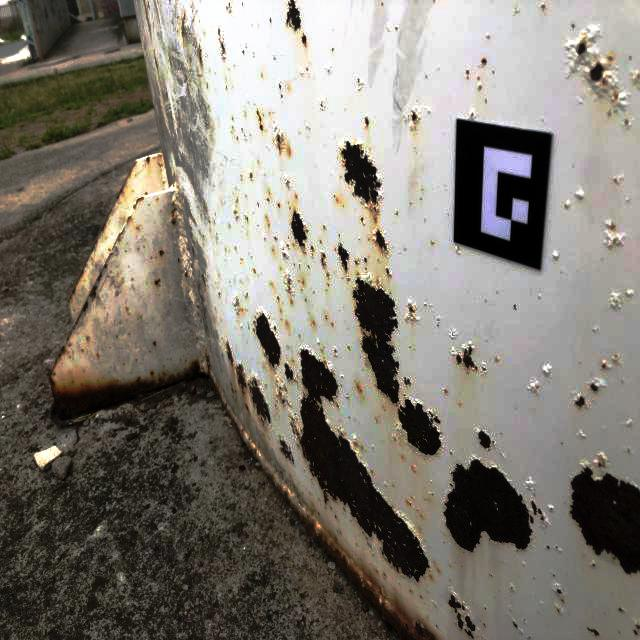Corrosion: (288, 343, 433, 589), (271, 473, 443, 640), (49, 336, 211, 421), (442, 456, 534, 556), (568, 450, 640, 576), (351, 266, 403, 408), (565, 25, 628, 118), (337, 138, 385, 224), (394, 393, 446, 461), (235, 361, 271, 431), (254, 306, 282, 373), (448, 593, 478, 640), (451, 341, 479, 376), (91, 210, 112, 253), (116, 160, 137, 200), (291, 208, 308, 254), (604, 219, 627, 249), (68, 269, 85, 306), (372, 227, 391, 258), (474, 424, 496, 450), (336, 243, 350, 283), (278, 437, 295, 466), (214, 381, 228, 415), (286, 0, 301, 31), (276, 378, 292, 406), (273, 120, 285, 157), (405, 297, 421, 323), (531, 500, 548, 524), (216, 26, 227, 61), (409, 107, 421, 132), (284, 361, 297, 384), (284, 269, 295, 296), (245, 436, 258, 458), (587, 379, 605, 393), (553, 584, 565, 604), (225, 341, 234, 367), (574, 394, 587, 411), (232, 293, 242, 315), (181, 9, 188, 39), (280, 242, 290, 261), (204, 347, 211, 374), (170, 201, 177, 228), (256, 109, 264, 132), (611, 293, 622, 309), (196, 42, 203, 66), (133, 195, 144, 210), (528, 381, 539, 395), (319, 250, 327, 269), (384, 265, 392, 282), (574, 186, 584, 199), (587, 627, 600, 637), (403, 376, 412, 389), (449, 326, 458, 339), (231, 416, 239, 430), (543, 365, 552, 377), (284, 175, 291, 190), (633, 623, 640, 637), (512, 620, 520, 632), (91, 285, 98, 298), (301, 34, 308, 47), (600, 361, 610, 370), (355, 383, 363, 394), (82, 300, 89, 312), (117, 230, 124, 242), (357, 78, 364, 90), (226, 1, 233, 13), (611, 354, 620, 363), (468, 110, 476, 120), (233, 207, 239, 220), (201, 273, 206, 288), (364, 115, 370, 127), (480, 364, 486, 376), (333, 345, 338, 359), (354, 254, 360, 265), (310, 245, 315, 258), (155, 277, 161, 287), (248, 169, 253, 181), (320, 98, 325, 110), (618, 606, 625, 614), (97, 273, 103, 282), (556, 605, 562, 614), (481, 58, 487, 66), (159, 249, 164, 258), (244, 213, 249, 222), (455, 245, 460, 254), (590, 562, 596, 569), (411, 466, 417, 473), (406, 501, 413, 507), (363, 256, 368, 264), (126, 306, 130, 315), (361, 217, 365, 226), (548, 505, 554, 511), (152, 340, 157, 347), (626, 291, 633, 296), (146, 156, 150, 164), (326, 271, 330, 279), (278, 82, 282, 90), (565, 201, 569, 209), (466, 69, 469, 79), (545, 544, 550, 550), (104, 263, 108, 270), (495, 356, 499, 363), (178, 256, 181, 265), (127, 216, 131, 222), (185, 271, 188, 279), (287, 242, 290, 250), (266, 197, 270, 203), (541, 4, 545, 10), (96, 353, 99, 360), (276, 295, 279, 302), (323, 224, 327, 229), (430, 240, 434, 245), (253, 268, 256, 274), (269, 18, 272, 24), (527, 636, 531, 640), (488, 573, 492, 577), (86, 336, 89, 341), (274, 236, 277, 241), (331, 47, 334, 52), (325, 315, 328, 320), (225, 85, 228, 90), (483, 622, 486, 627), (510, 586, 513, 591), (278, 203, 280, 209), (312, 321, 315, 325), (479, 85, 482, 89), (555, 545, 558, 549), (242, 50, 244, 55), (348, 345, 350, 350), (331, 322, 333, 327), (320, 239, 322, 244), (144, 192, 147, 195), (307, 265, 310, 268), (281, 95, 283, 99), (116, 335, 118, 338), (128, 333, 130, 336), (302, 281, 304, 284), (81, 350, 83, 352), (291, 301, 293, 303), (339, 234, 340, 238), (485, 606, 486, 610), (553, 575, 555, 577), (140, 316, 141, 319)
